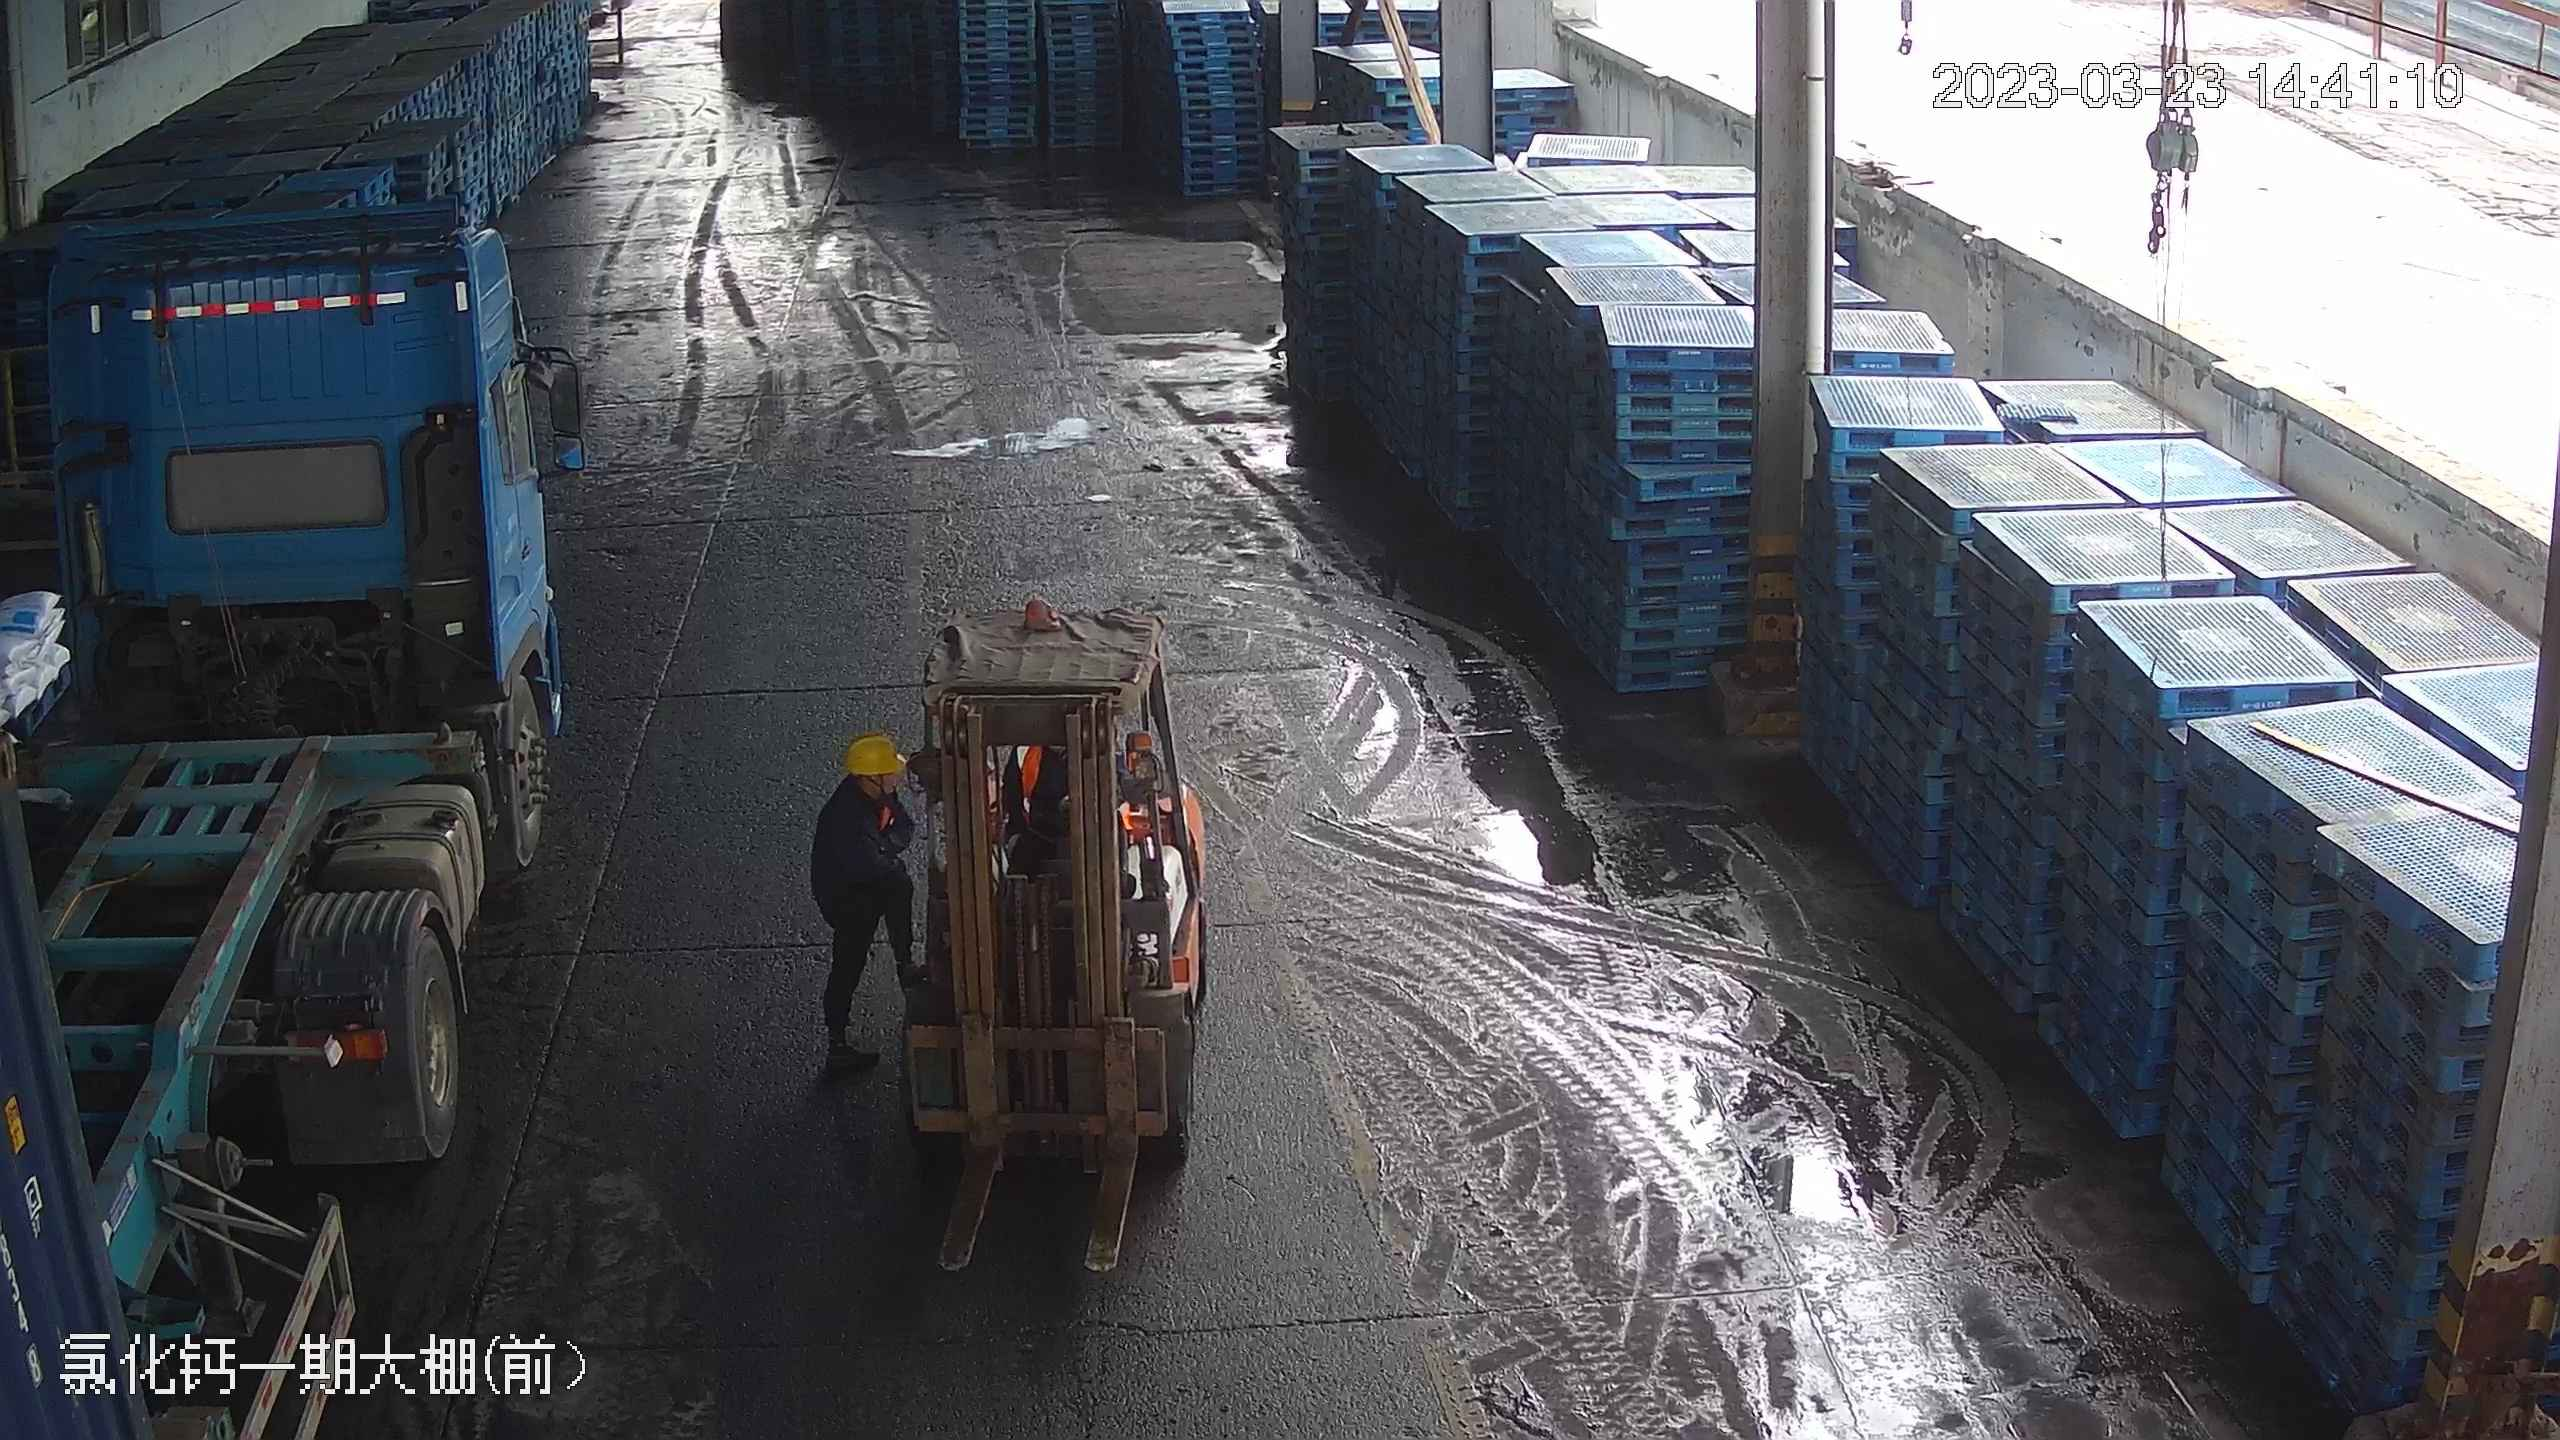head: (815, 730, 919, 842)
helmet: (841, 730, 907, 776)
people: (807, 727, 929, 1062)
truck: (0, 205, 596, 1433)
